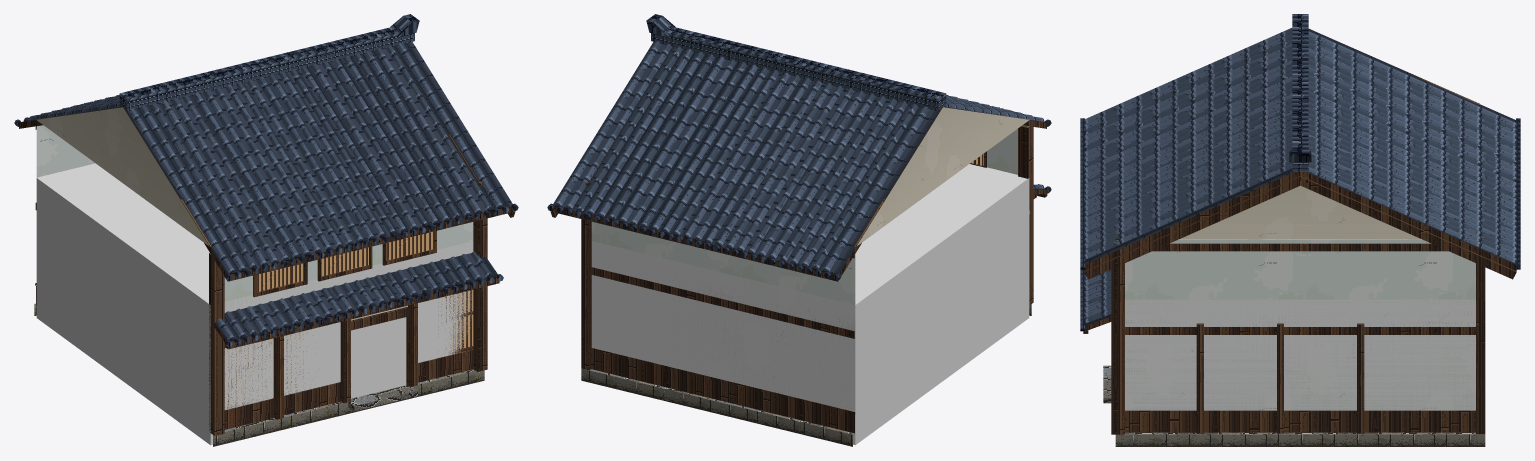
File: JP_Row_House_B_R.glb
The picture shows the model from 3 angles, left to right: view 1: azimuth 30°, elevation 25°; view 2: azimuth 150°, elevation 25°; view 3: azimuth 270°, elevation 25°; orthographic projection. The views are drawn at different scales.
Parts seen in each view (by area): view 1: JP_Row_House_B_R, COL_JP_Row_House_B_R; view 2: JP_Row_House_B_R, COL_JP_Row_House_B_R; view 3: JP_Row_House_B_R, COL_JP_Row_House_B_R.
Boxes of the visible parts, x1,y1,x2,y2 form: JP_Row_House_B_R: (14, 14, 518, 446); COL_JP_Row_House_B_R: (36, 163, 473, 445); JP_Row_House_B_R: (547, 14, 1051, 446); COL_JP_Row_House_B_R: (591, 164, 1029, 445); JP_Row_House_B_R: (1080, 14, 1520, 446); COL_JP_Row_House_B_R: (1125, 299, 1475, 410).
Size of the model in its own units: 8.8 by 8.36 by 11.
Materials: 13 (13 with a texture image).
